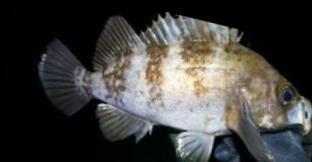fish: (39, 9, 312, 162)
